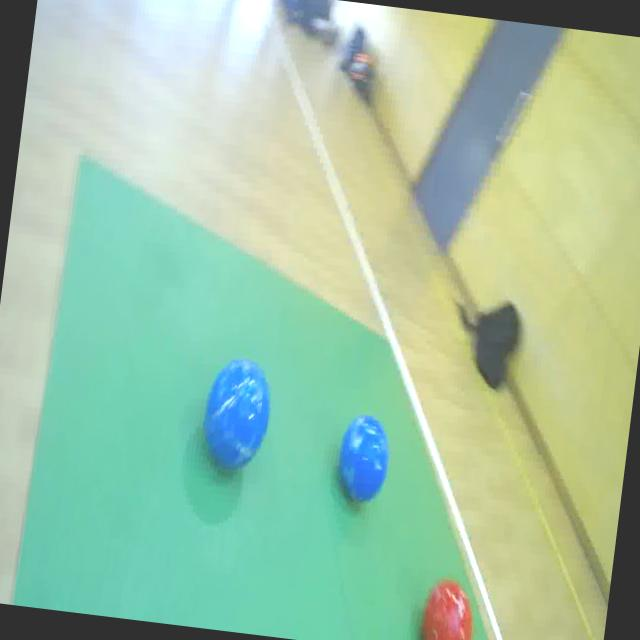blue_ball: (192, 352, 278, 481), (332, 410, 397, 510)
red_ball: (416, 568, 482, 640)
